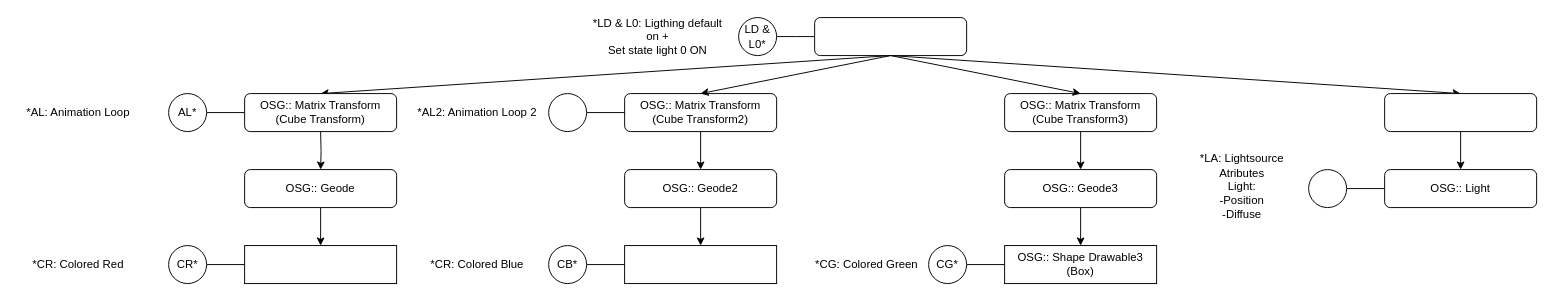
This 1553x300 diagram has some shape labels left out. Each missing label, with the centre of its shape:
"AL2*" belongs at point 567,112.
"LA*" belongs at point 1327,188.
"OSG:: LightSource" belongs at point 1460,112.
"OSG:: Root node" belongs at point 890,36.
"OSG:: Shape Drawable (Box)" belongs at point 320,264.
"OSG:: Shape Drawable2 (Box2)" belongs at point 700,264.
